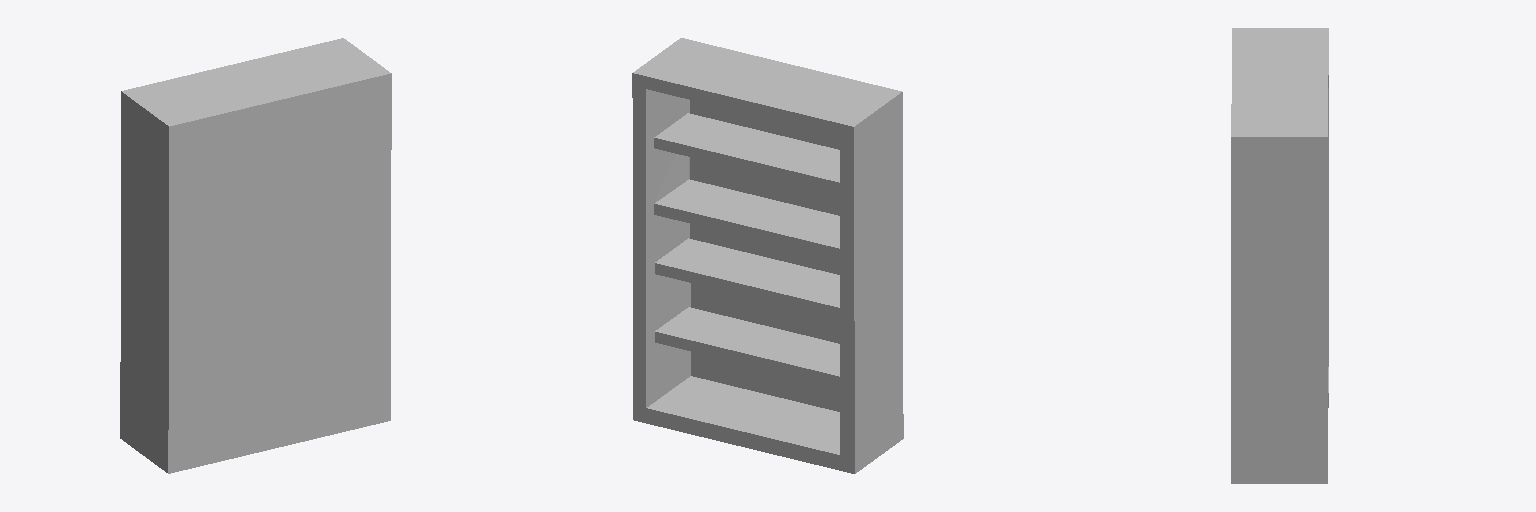
File: PantryBase.obj
3 renders of one model, left to right at view 1: azimuth 30°, elevation 25°; view 2: azimuth 150°, elevation 25°; view 3: azimuth 270°, elevation 25°, orthographic.
Visible parts, largest first — view 1: polySurface215 pantry_closet; view 2: polySurface215 pantry_closet; view 3: polySurface215 pantry_closet.
Part boxes in pixels (bbox=[...]): polySurface215 pantry_closet: bbox=[120, 38, 391, 473]; polySurface215 pantry_closet: bbox=[632, 38, 903, 473]; polySurface215 pantry_closet: bbox=[1231, 28, 1328, 483].
Size of the model in its own units: 35.21 by 52.43 by 13.36.